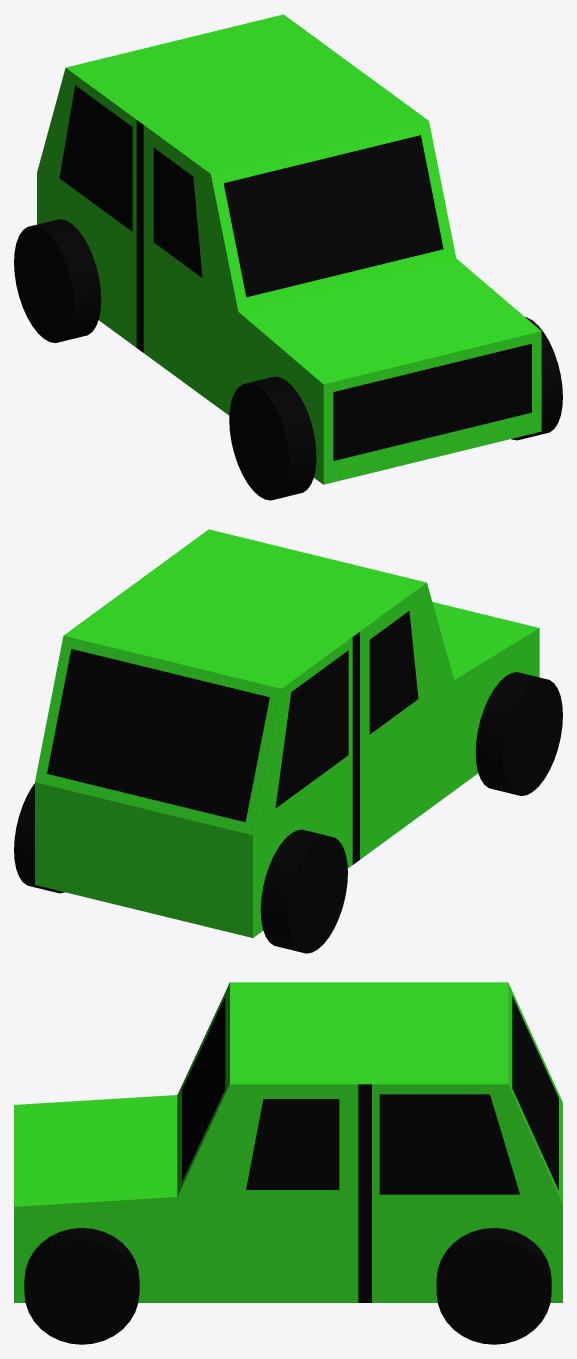
The model's file is Jeep.fbx.
3 views of the same model, one above another, from view 1: azimuth 30°, elevation 25°; view 2: azimuth 150°, elevation 25°; view 3: azimuth 270°, elevation 25° (orthographic). The views are drawn at different scales.
Parts seen in each view (by area): view 1: Chasis Body.001, Wheel.003, Wheel.001, Wheel; view 2: Chasis Body.001, Wheel.001, Wheel.003, Wheel.002; view 3: Chasis Body.001, Wheel, Wheel.002.
Boxes of the visible parts, x1=… form: Chasis Body.001: x1=37, y1=14, x2=541, y2=484; Wheel.003: x1=229, y1=376, x2=316, y2=500; Wheel.001: x1=14, y1=219, x2=101, y2=342; Wheel: x1=511, y1=317, x2=562, y2=440; Chasis Body.001: x1=35, y1=529, x2=539, y2=937; Wheel.001: x1=260, y1=829, x2=347, y2=953; Wheel.003: x1=475, y1=672, x2=562, y2=795; Wheel.002: x1=14, y1=783, x2=64, y2=893; Chasis Body.001: x1=14, y1=982, x2=562, y2=1302; Wheel: x1=24, y1=1228, x2=139, y2=1344; Wheel.002: x1=436, y1=1228, x2=551, y2=1344.
Size of the model in its own units: 5.26 by 4.75 by 9.54.
